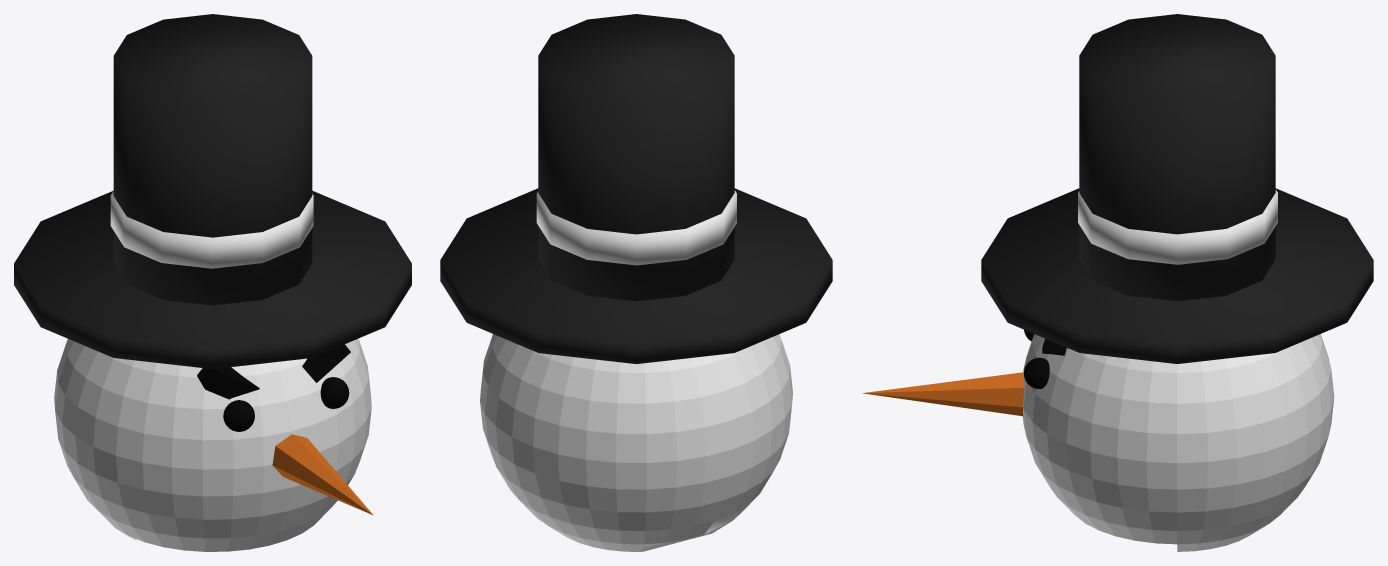
File: hatt_snowhead.fbx
The picture shows the model from 3 angles, left to right: view 1: azimuth 30°, elevation 25°; view 2: azimuth 150°, elevation 25°; view 3: azimuth 270°, elevation 25°; orthographic projection.
Visible parts, largest first — view 1: Sphere.002; view 2: Sphere.002; view 3: Sphere.002.
Boxes of the visible parts, x1=… form: Sphere.002: x1=14, y1=14, x2=411, y2=551; Sphere.002: x1=440, y1=14, x2=832, y2=551; Sphere.002: x1=862, y1=14, x2=1373, y2=551.
Bounding box in the file's own units: 100 × 129 × 131.
